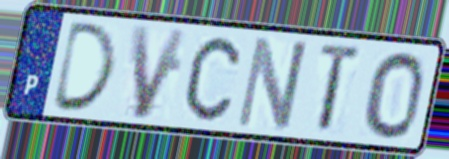C: (183, 34, 243, 124)
D: (48, 19, 120, 114)
N: (232, 33, 312, 133)
O: (361, 48, 427, 142)
T: (316, 40, 365, 137)
V: (129, 23, 191, 123)
